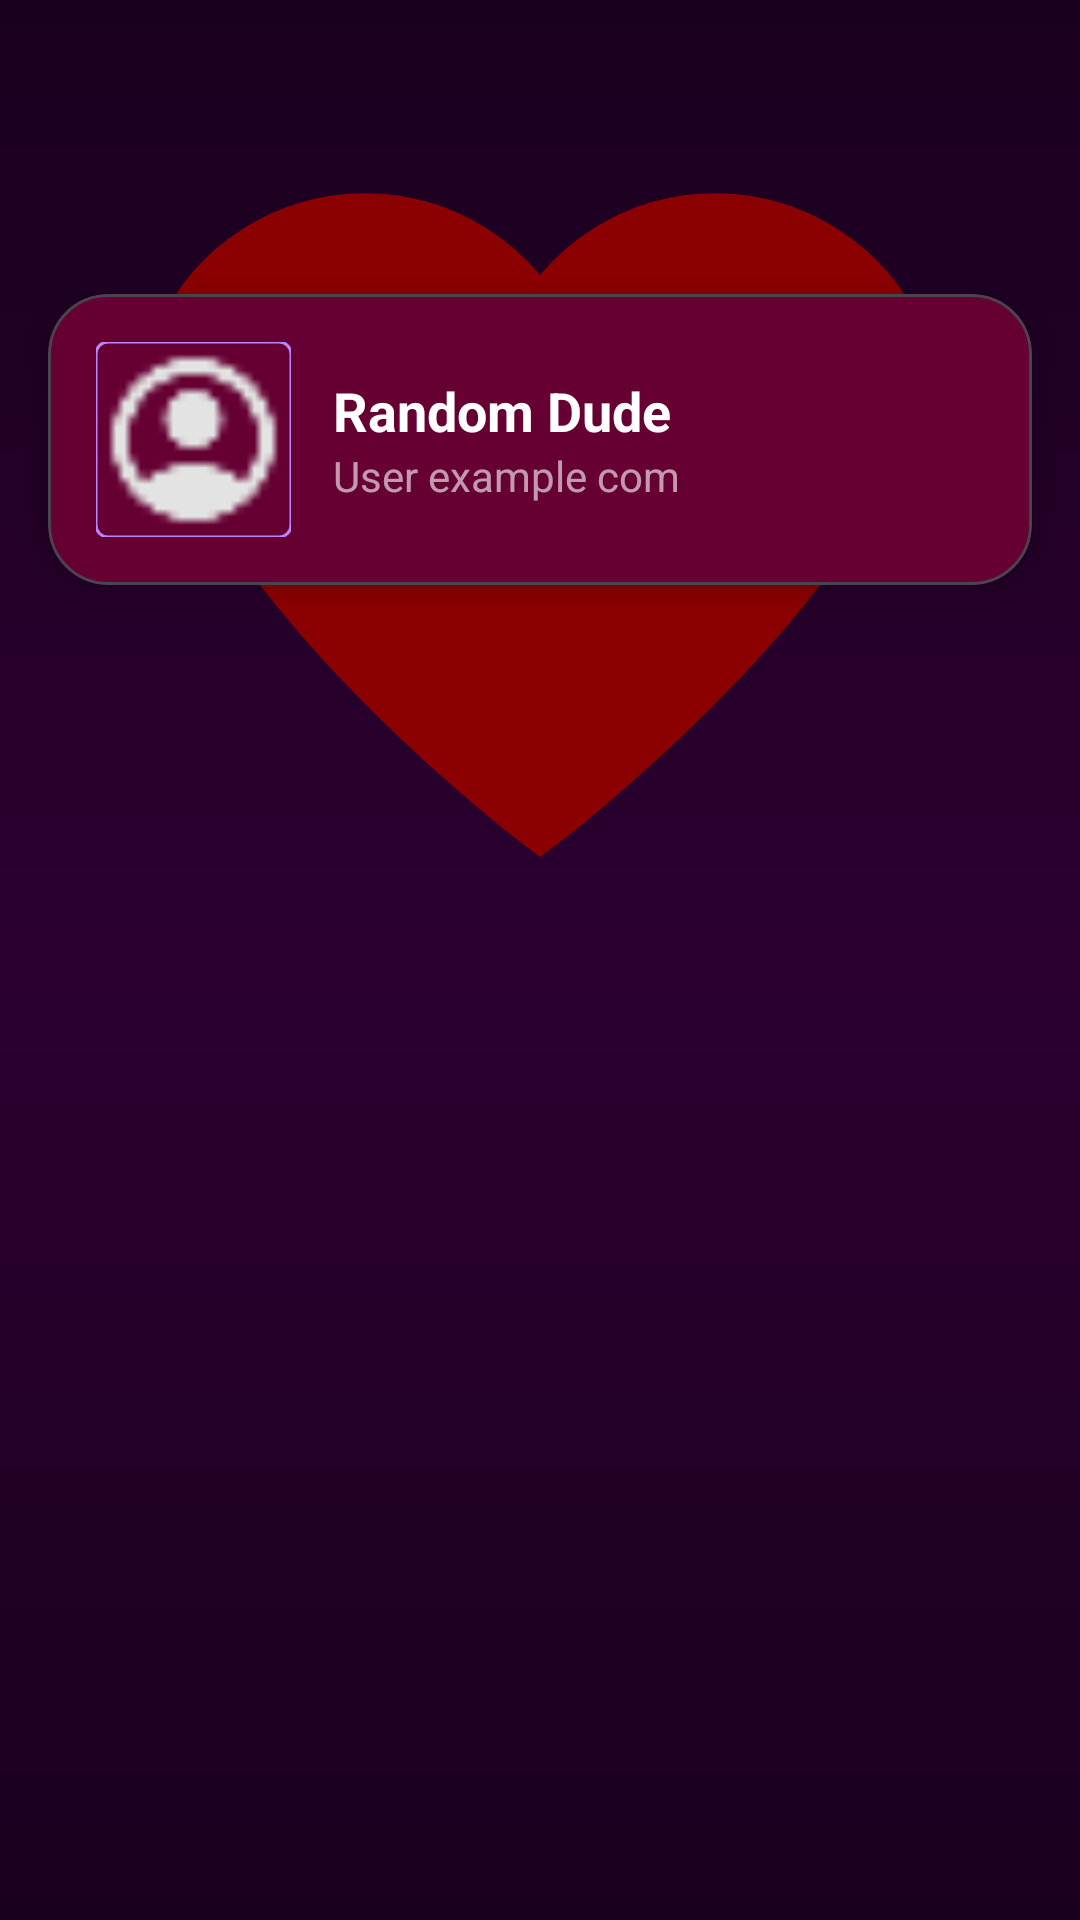

Icons on this 1080px×1920px Android screen, each with its box as (x1, y1, x2, y2):
profile: (96, 342, 291, 537)
